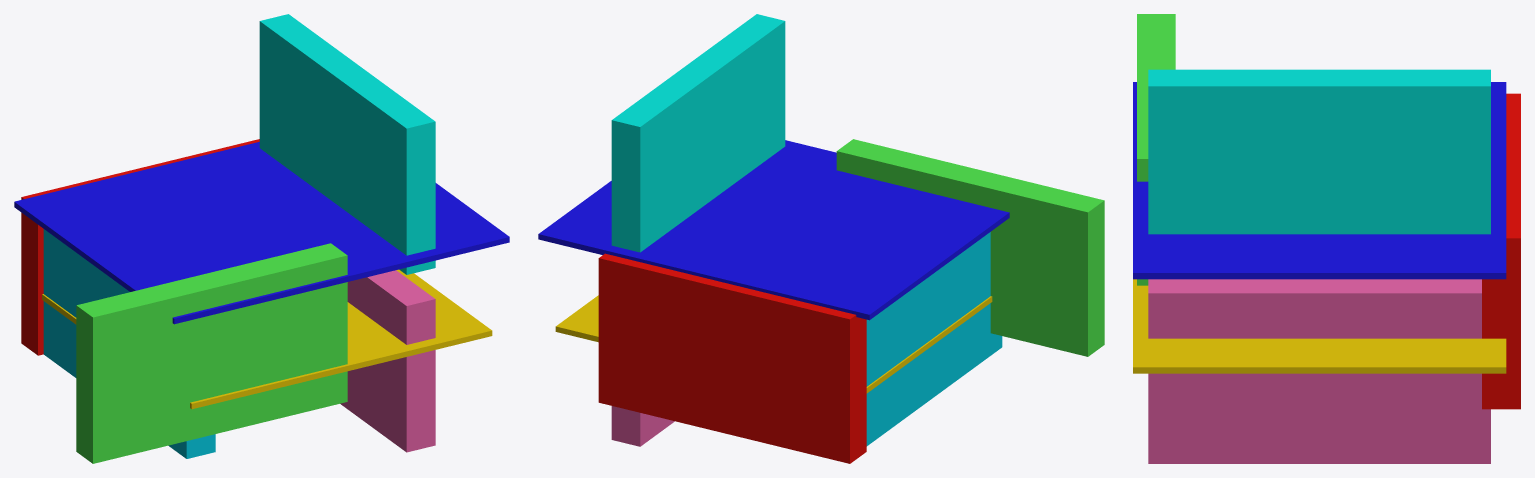
3 views of the same model, side by side, from view 1: azimuth 30°, elevation 25°; view 2: azimuth 150°, elevation 25°; view 3: azimuth 270°, elevation 25° (orthographic). The views are drawn at different scales.
Visible parts, largest first — view 1: Cube.006, Cube.007, Cube.004, Cube.003, Cube, Cube.001, Cube.002; view 2: Cube.002, Cube.007, Cube.004, Cube.006, Cube.001, Cube, Cube.003; view 3: Cube.004, Cube.003, Cube.007, Cube, Cube.002, Cube.006.
Boxes of the visible parts, <box> form: Cube.006: <box>76,243,347,463</box>; Cube.007: <box>14,142,509,324</box>; Cube.004: <box>259,14,435,274</box>; Cube.003: <box>340,270,435,452</box>; Cube: <box>42,269,492,409</box>; Cube.001: <box>43,229,215,458</box>; Cube.002: <box>21,139,259,355</box>; Cube.002: <box>598,253,866,463</box>; Cube.007: <box>538,140,1009,320</box>; Cube.004: <box>611,14,785,252</box>; Cube.006: <box>836,139,1104,356</box>; Cube.001: <box>866,232,1002,446</box>; Cube: <box>555,295,992,393</box>; Cube.003: <box>611,406,674,446</box>; Cube.004: <box>1148,69,1490,234</box>; Cube.003: <box>1148,279,1490,463</box>; Cube.007: <box>1133,82,1506,279</box>; Cube: <box>1133,279,1506,373</box>; Cube.002: <box>1482,93,1520,409</box>; Cube.006: <box>1137,14,1175,285</box>.
Size of the model in its own units: 28.74 by 21.43 by 19.95.
